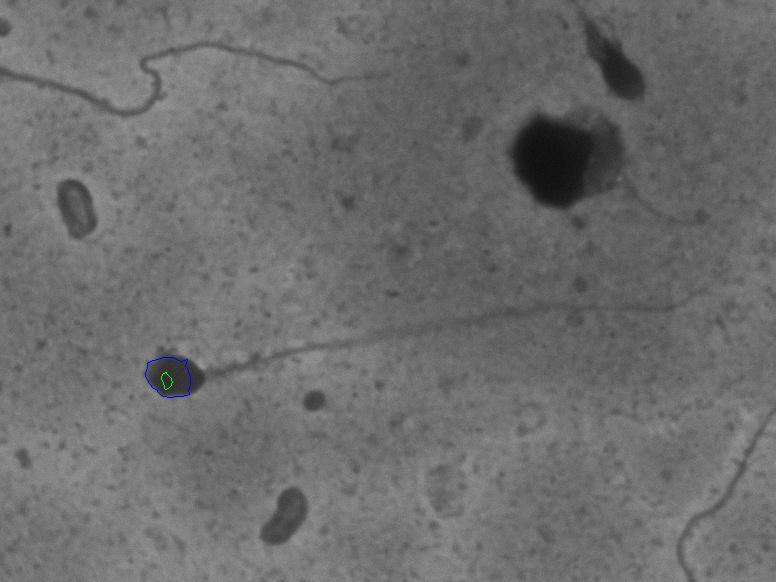Abnormal: (119, 250, 701, 436)
